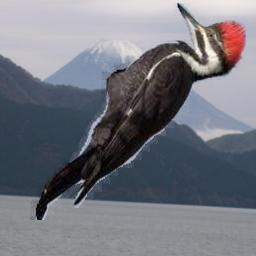Woodpecker: (24, 3, 246, 220)
